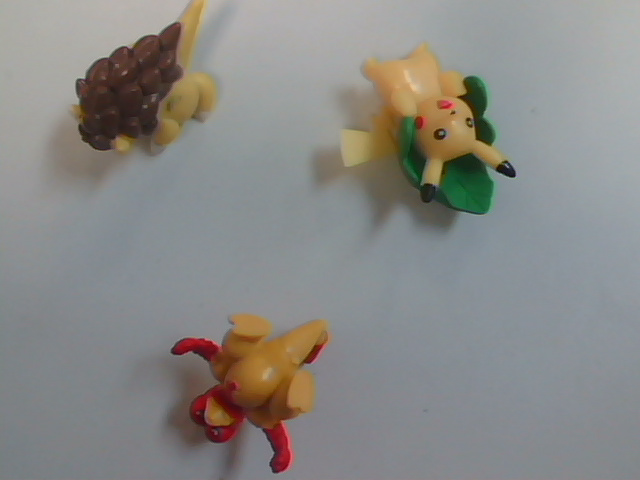magmar: (148, 284, 378, 480)
pikachu: (329, 21, 533, 228)
sandslash: (26, 4, 229, 203)
